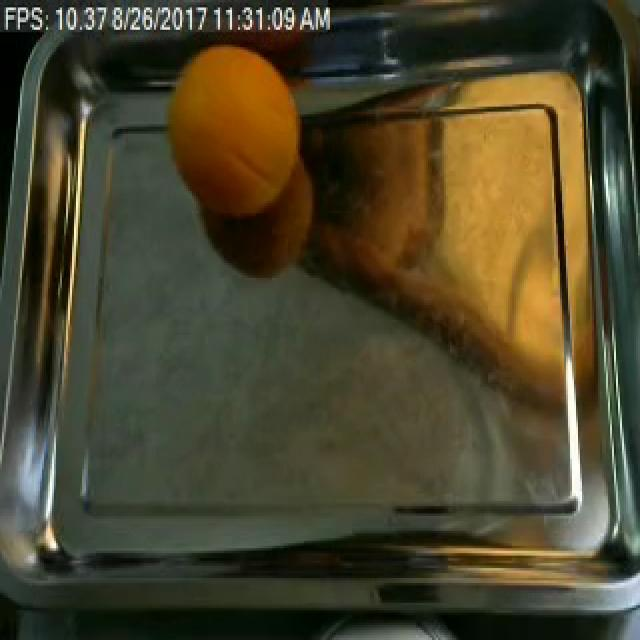Fruit: (304, 102, 560, 382), (152, 27, 314, 236)
